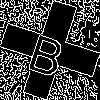B: (25, 25, 71, 78)
